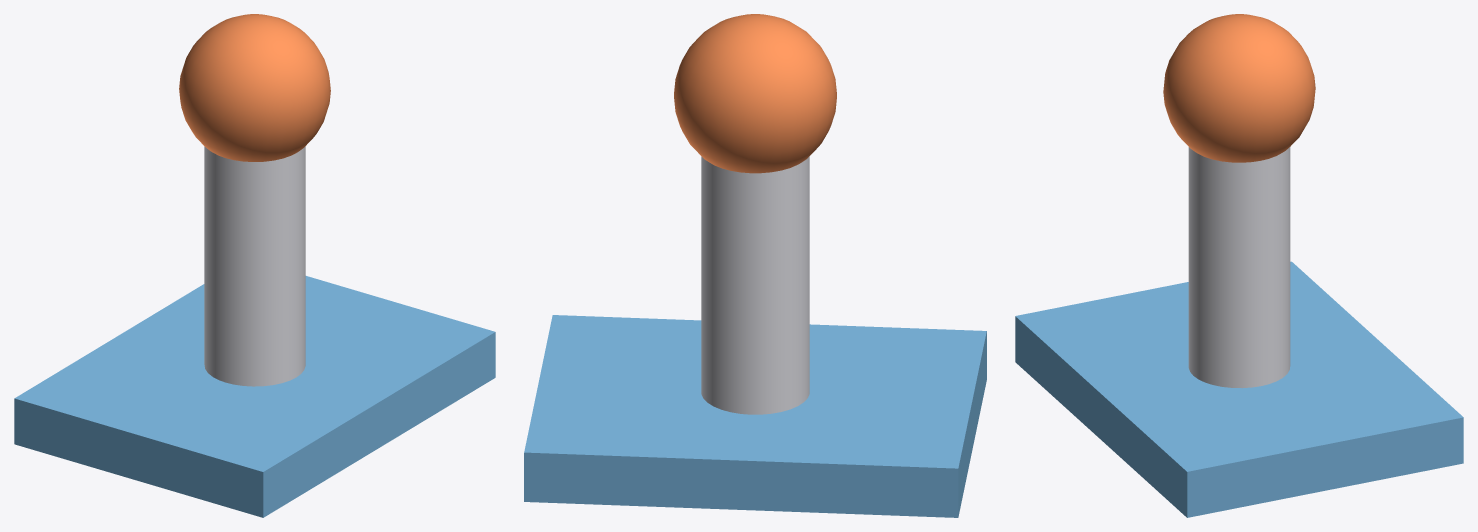
The model's file is python_groups.glb.
3 views of the same model, side by side, from view 1: azimuth 30°, elevation 25°; view 2: azimuth 150°, elevation 25°; view 3: azimuth 270°, elevation 25° (orthographic). The views are drawn at different scales.
Parts seen in each view (by area): view 1: assembly; view 2: assembly; view 3: assembly.
Part boxes in pixels (x1=…): assembly: x1=14, y1=14, x2=495, y2=517; assembly: x1=524, y1=14, x2=986, y2=517; assembly: x1=1015, y1=14, x2=1463, y2=517.
Bounding box in the file's own units: 19.57 × 17 × 17.64.
